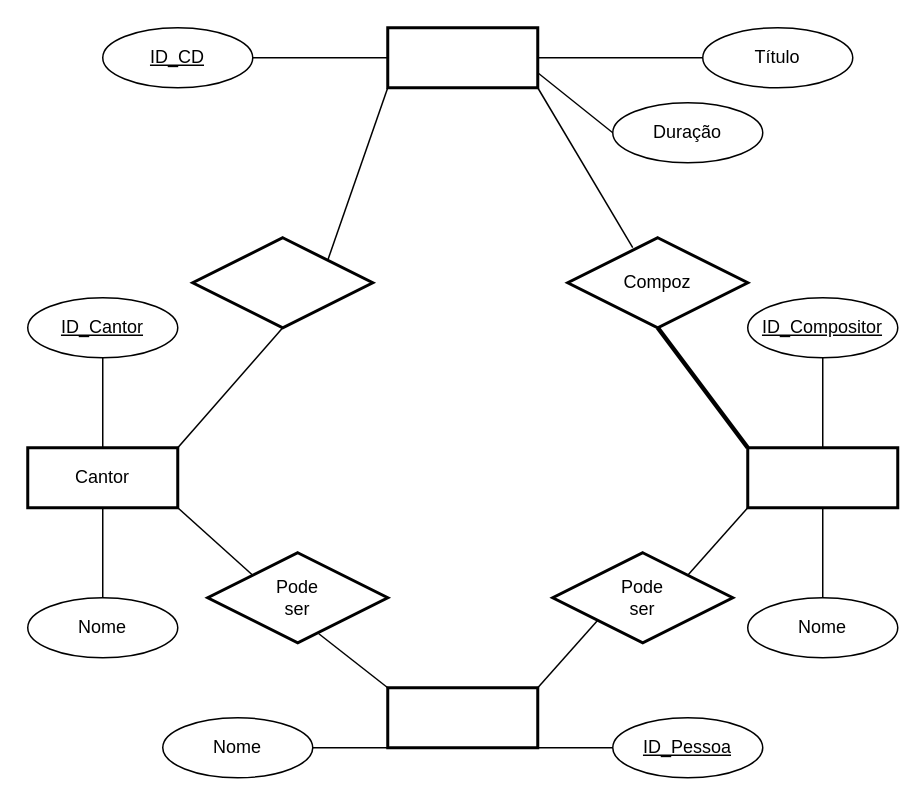
Image size: 924x804. Some labels were removed from this diagram. Here are the shapes that lost their labels. From the top down, the centre of each, then its label:
At point 462,57: "CD".
At point 282,282: "Interpreta".
At point 822,477: "Compositor".
At point 462,717: "Pessoa".
